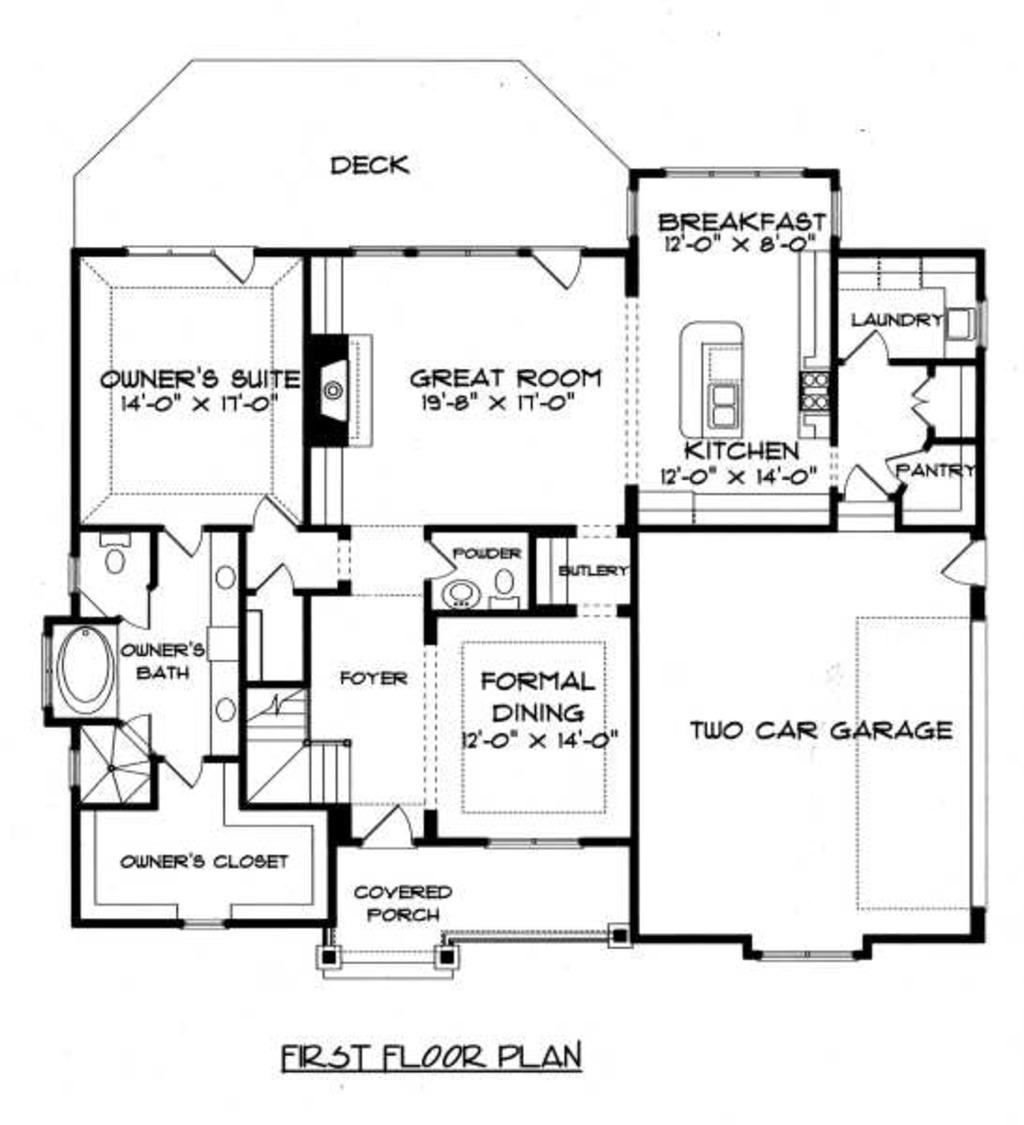door: (524, 224, 594, 305), (647, 158, 828, 186), (349, 798, 429, 854), (898, 363, 950, 442), (238, 484, 315, 537), (212, 238, 266, 305), (412, 533, 468, 591), (156, 745, 212, 802), (831, 328, 908, 366), (942, 533, 991, 591), (831, 459, 896, 502), (236, 566, 305, 600)
kitchen_bar: (652, 298, 779, 461)
large_sink: (484, 559, 535, 619), (94, 528, 135, 584)
stairs: (243, 682, 370, 812)
tub: (42, 621, 110, 719)
window: (750, 938, 856, 970)
